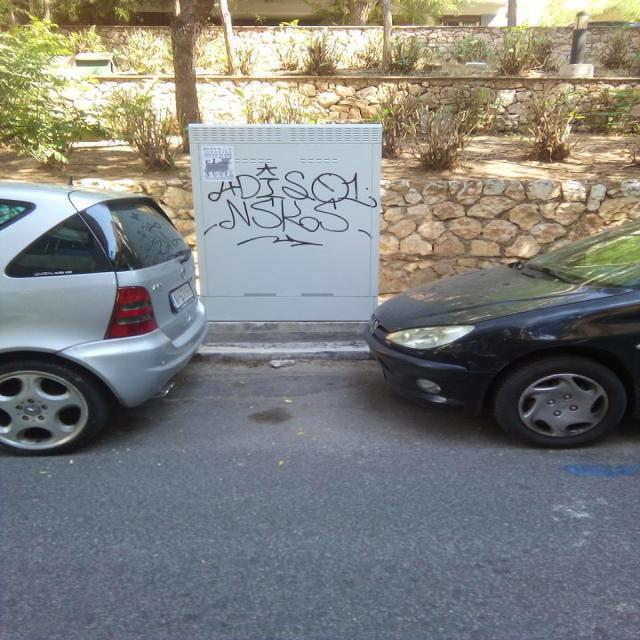nonspitting: (204, 164, 376, 248)
